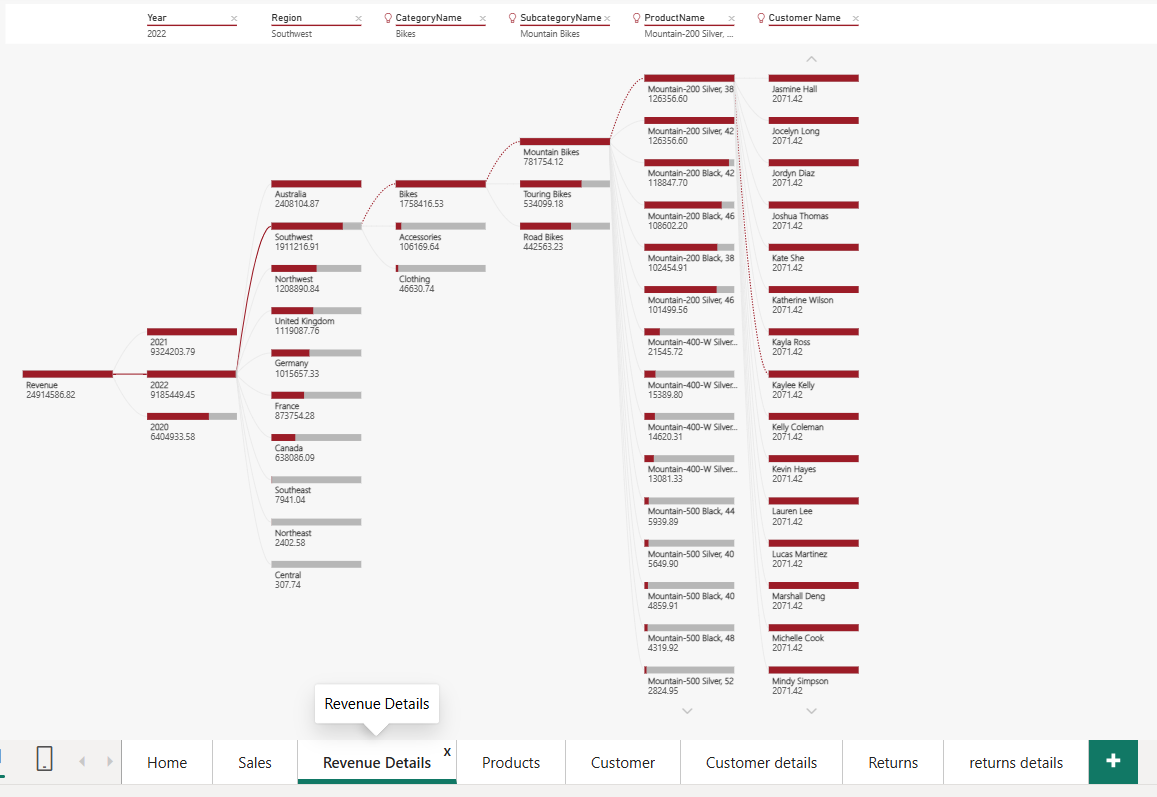

Layout of this report page (visuals, bound fields, positions):
{"tool":"powerbi","page":{"name":"Revenue Details","canvas":[1920,1080],"ordinal":2},"visuals":[{"type":"decompositionTreeVisual","fields":{"Analyze":["Measur.Revenue"],"ExplainBy":["Calendar.Year","Territory.Region","Product Categories.CategoryName","Product Subcategories.SubcategoryName","Product.ProductName","Customer.Customer Name"]},"box":[10.9,0,1909.2,1080.4],"z":0}]}

Visuals, with their boxes on the page's 1920x1080 design canvas (x1, y1, x2, y2). These are canvas units, not pixel positions in the 1157x797 screenshot, which may show the page scaled, cropped or inside an application window:
decompositionTreeVisual - Measur.Revenue x Calendar.Year: rect(11, 0, 1920, 1080)
